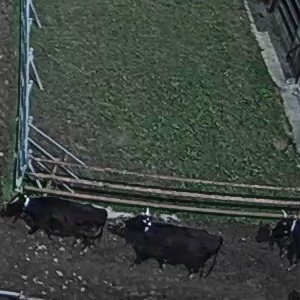cow: (109, 210, 226, 287), (1, 186, 113, 253)
